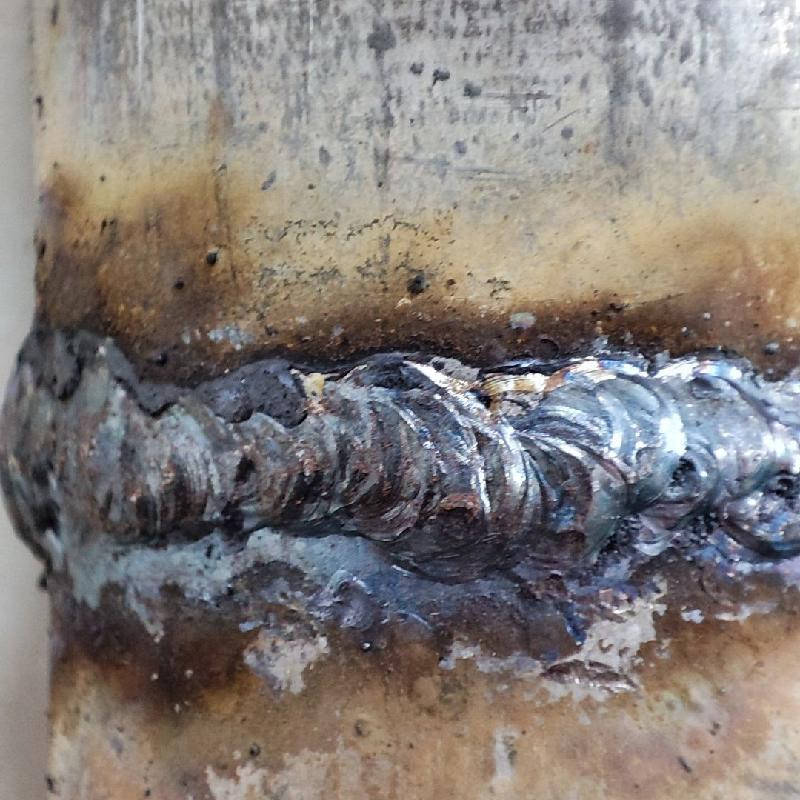Surface_pores: (231, 445, 268, 490), (768, 473, 799, 512)
good: (3, 316, 799, 576)
